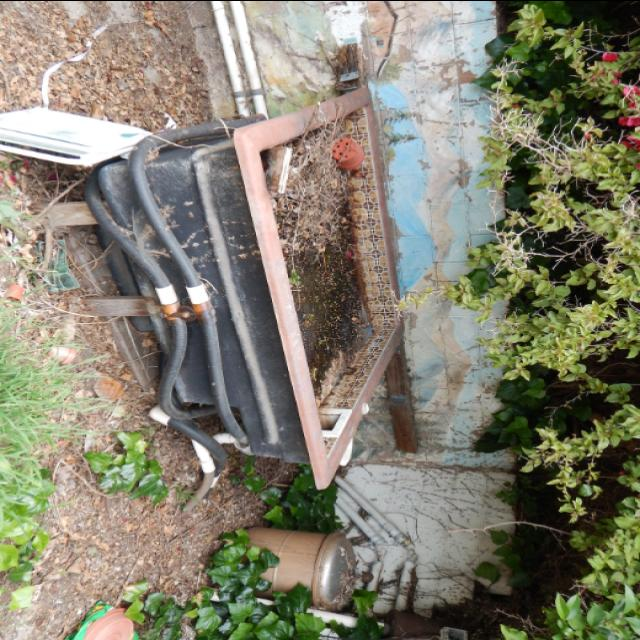Breeding Place: (101, 87, 409, 483)
